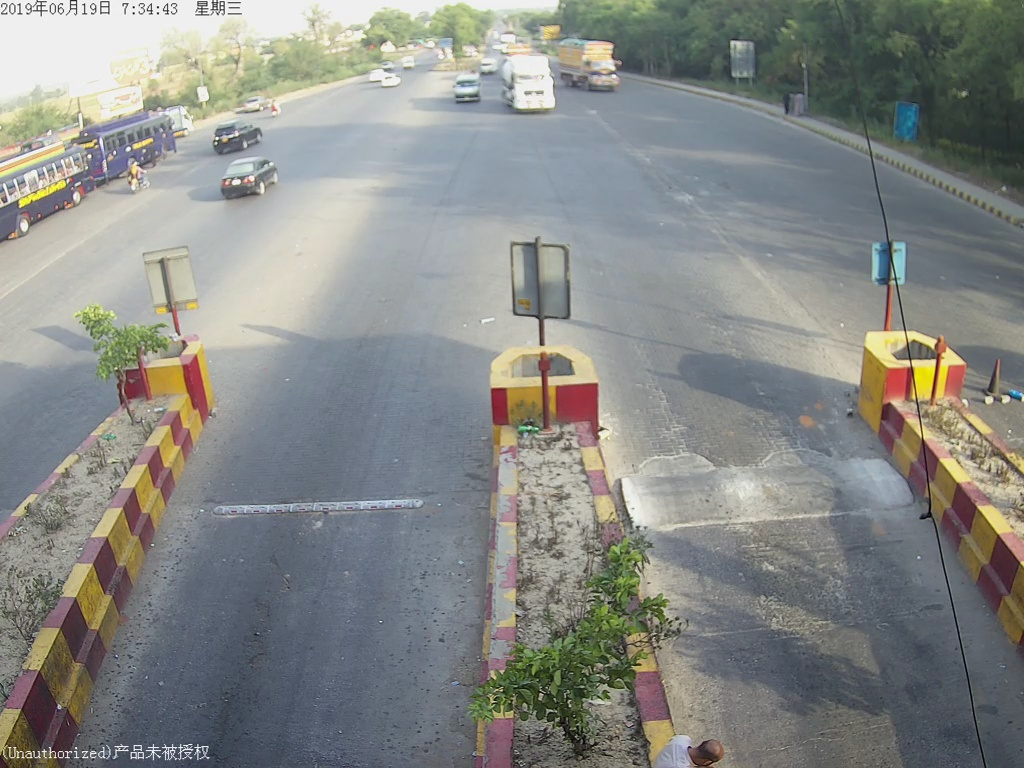Cat-2: (449, 74, 485, 110)
